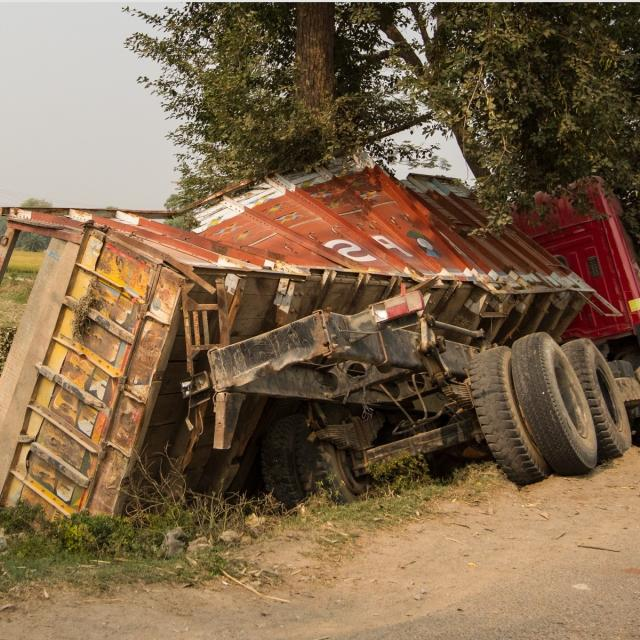accident: (0, 156, 640, 516)
